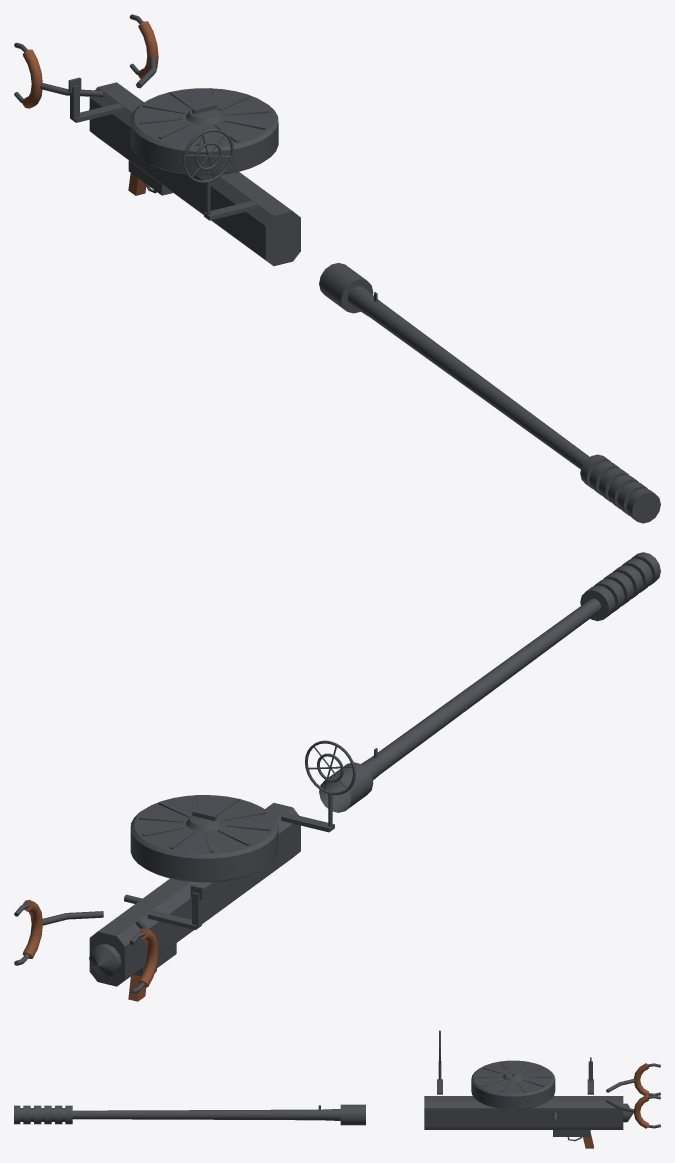
The model's file is madsen_20mm.obj.
3 views of the same model, one above another, from view 1: azimuth 30°, elevation 25°; view 2: azimuth 150°, elevation 25°; view 3: azimuth 270°, elevation 25° (orthographic). The views are drawn at different scales.
Parts seen in each view (by area): view 1: turret_0, barrel_0, turret_2, turret_1; view 2: turret_0, barrel_0, turret_2, turret_1; view 3: turret_0, barrel_0, turret_1, turret_2.
Part boxes in pixels (x1,y1,x2,y2): turret_0: [14, 14, 300, 266]; barrel_0: [319, 263, 660, 523]; turret_2: [68, 77, 233, 216]; turret_1: [22, 21, 158, 195]; turret_0: [14, 795, 334, 993]; barrel_0: [319, 552, 660, 812]; turret_2: [190, 740, 355, 927]; turret_1: [22, 899, 158, 1001]; turret_0: [424, 1060, 660, 1141]; barrel_0: [14, 1104, 365, 1125]; turret_1: [583, 1063, 649, 1148]; turret_2: [438, 1030, 592, 1080].
Bounding box in the file's own units: 0.4685 × 0.5185 × 3.09.
